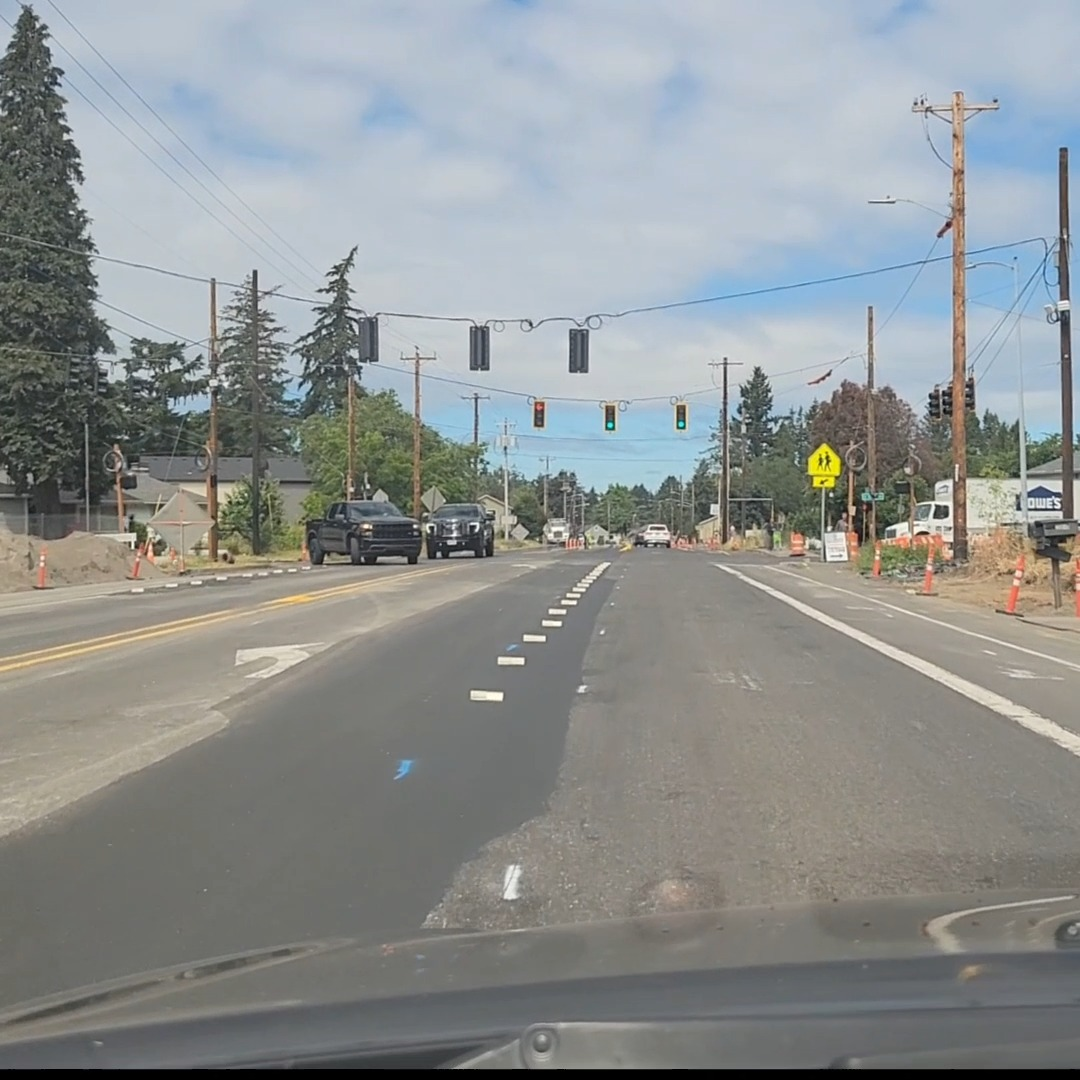car: (304, 500, 422, 565), (421, 503, 496, 560), (636, 523, 672, 547), (542, 518, 571, 547)
crosswalk-sign: (806, 442, 841, 486)
delineator: (996, 557, 1026, 614), (125, 533, 152, 580), (917, 538, 939, 594), (31, 546, 55, 589), (872, 540, 882, 576), (299, 539, 311, 569), (930, 531, 943, 557), (175, 541, 185, 573), (893, 533, 911, 548)
